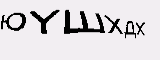Е: (93, 23, 103, 42)
Р: (106, 19, 124, 45)
У: (29, 22, 49, 47)
Ш: (50, 24, 76, 46)
Щ: (74, 24, 92, 44)
